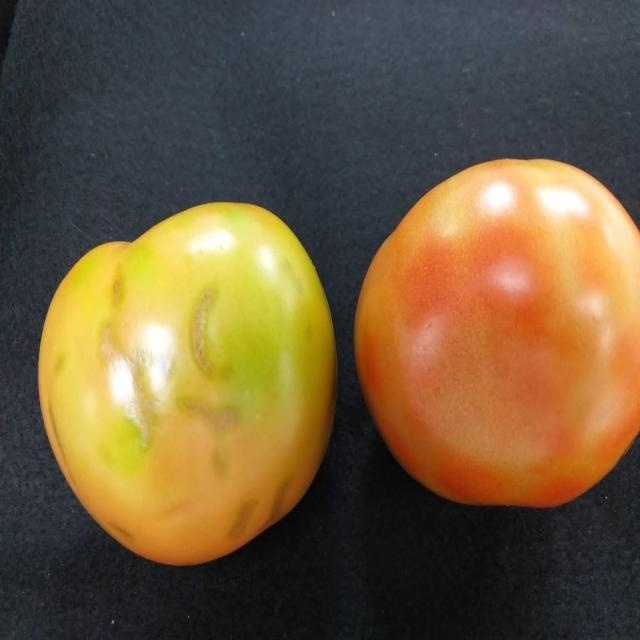T_F_H: (355, 159, 640, 508)
T_F_R: (38, 203, 337, 566)
